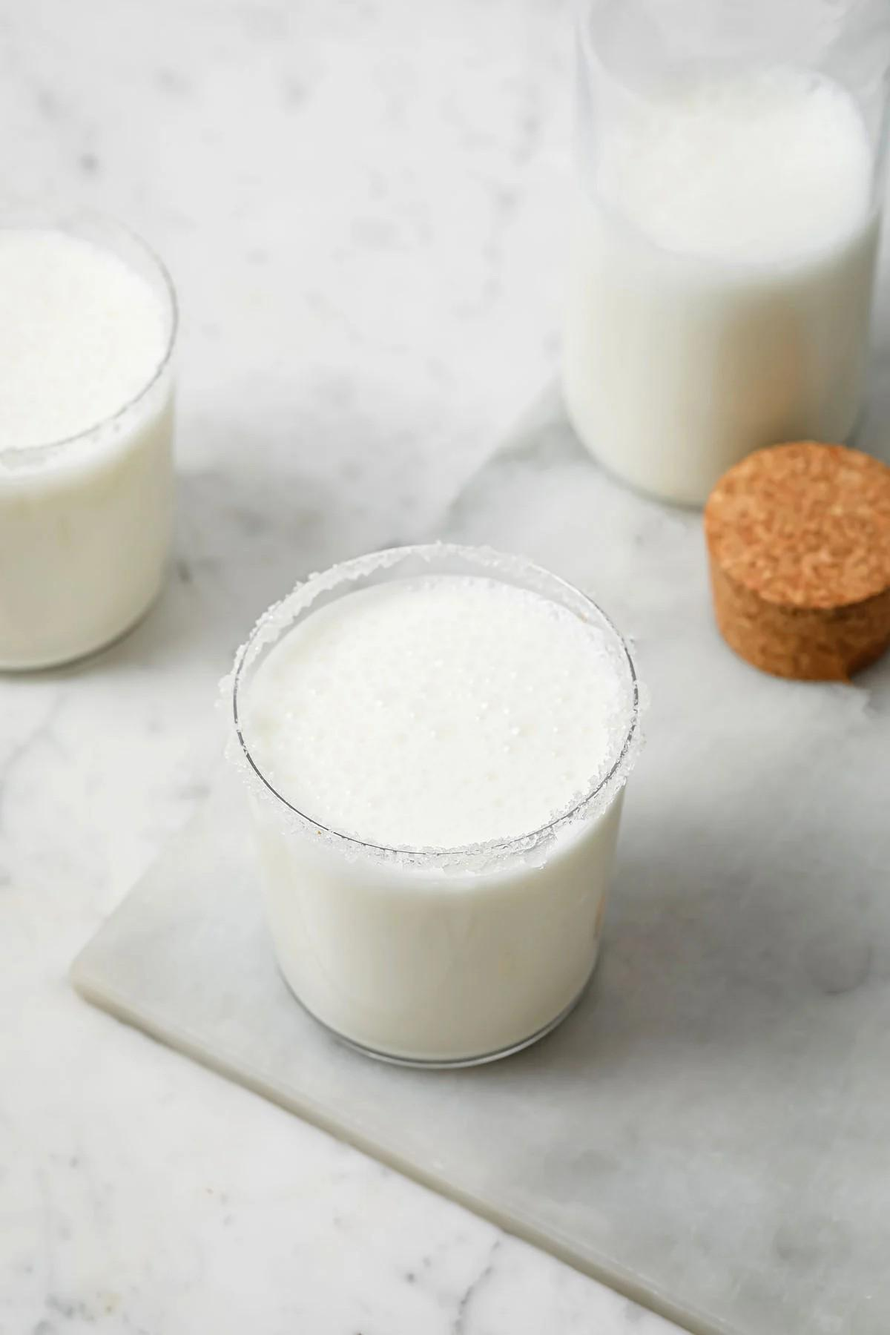Lassi: (229, 540, 631, 1063), (557, 61, 884, 515), (0, 220, 189, 668)
